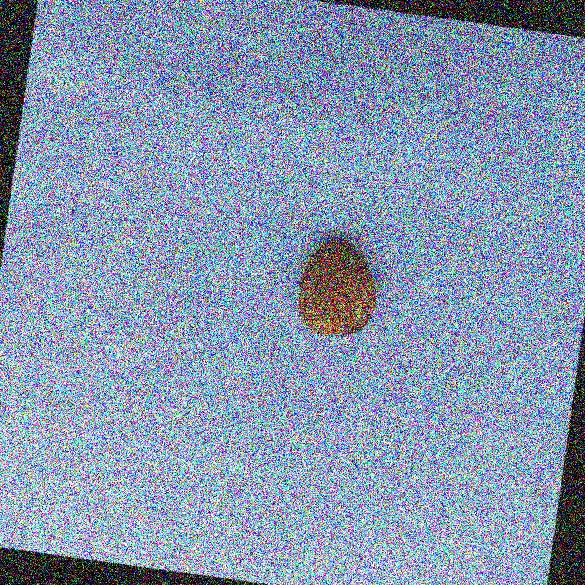grade1: (283, 226, 391, 349)
